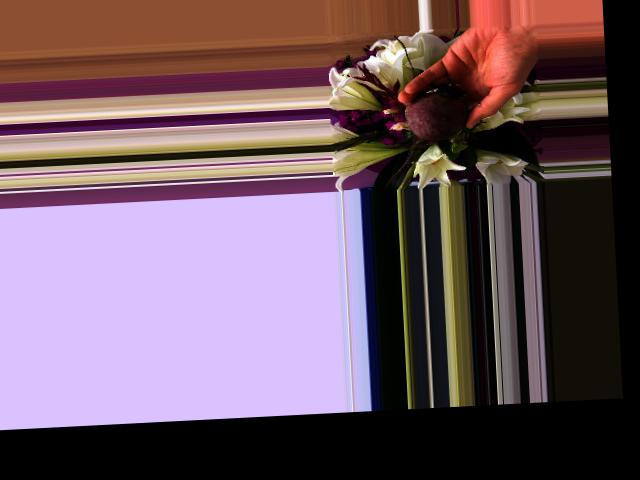beet: (379, 83, 471, 186)
